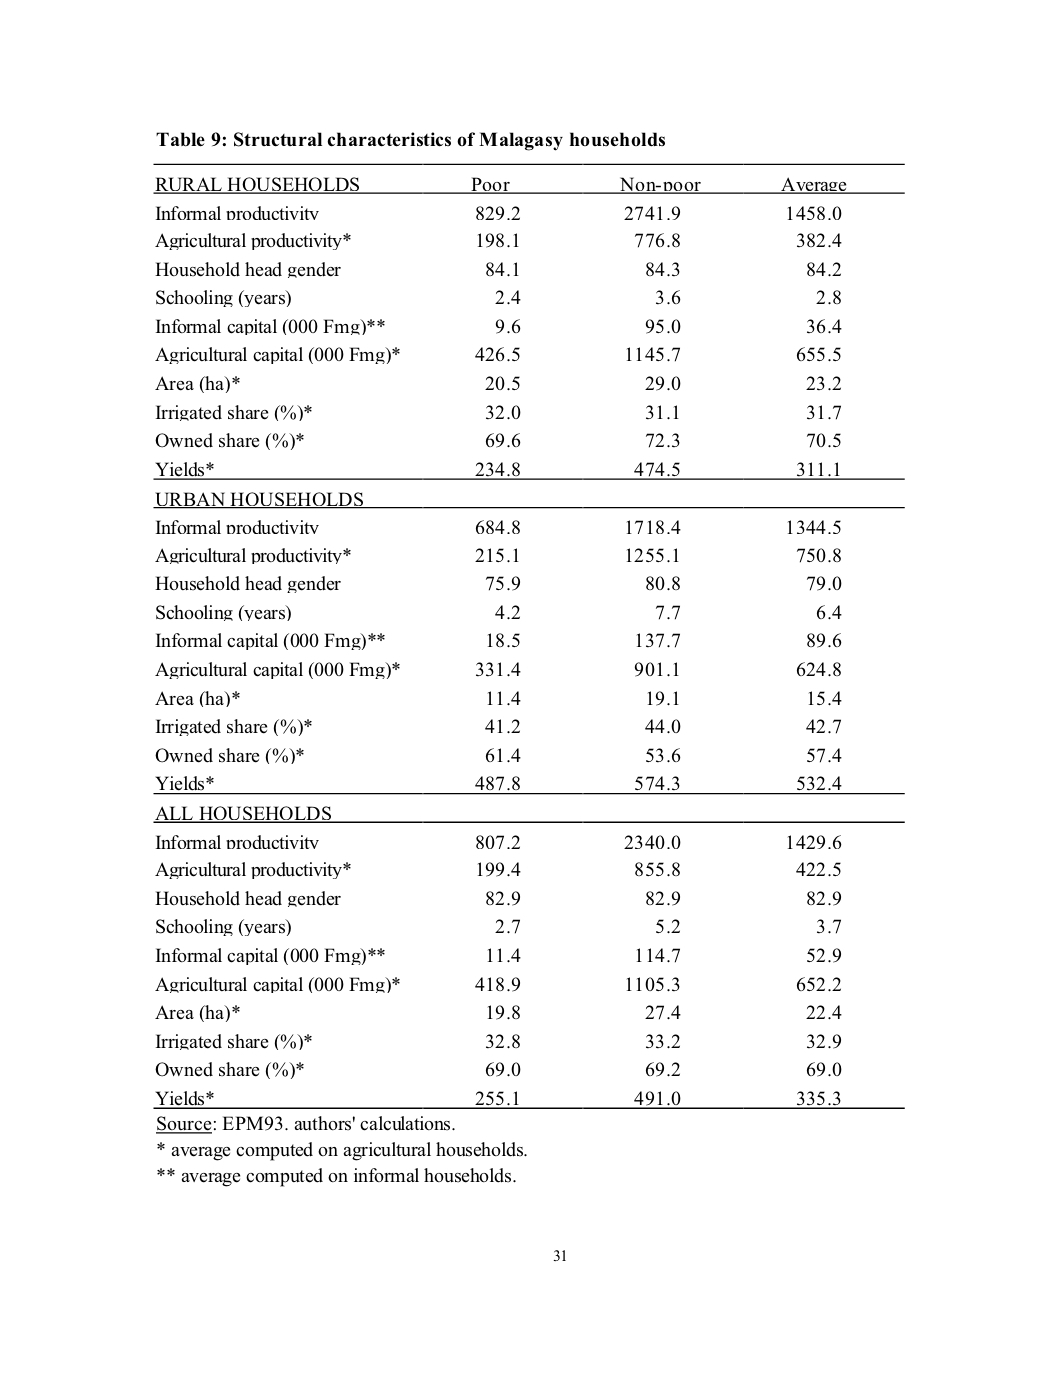Table: (153, 163, 904, 1108)
